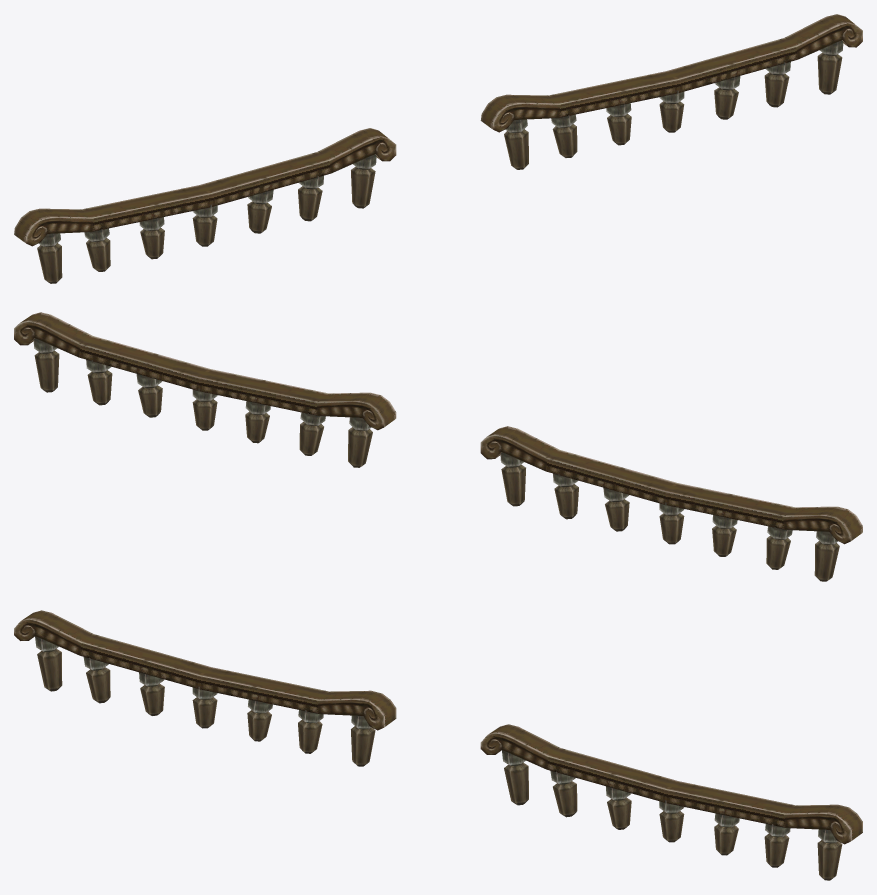
The model's file is tesu30.glb.
3 renders of one model, top to bottom at view 1: azimuth 30°, elevation 25°; view 2: azimuth 150°, elevation 25°; view 3: azimuth 330°, elevation 25°, orthographic.
Visible parts, largest first — view 1: tesu30; view 2: tesu30; view 3: tesu30.
Part boxes in pixels (left/top/right/bottom): tesu30: left=14, top=14, right=862, bottom=283; tesu30: left=14, top=312, right=862, bottom=581; tesu30: left=14, top=610, right=862, bottom=880.
Size of the model in its own units: 1990 by 161 by 52.
3 materials, 3 textured.
